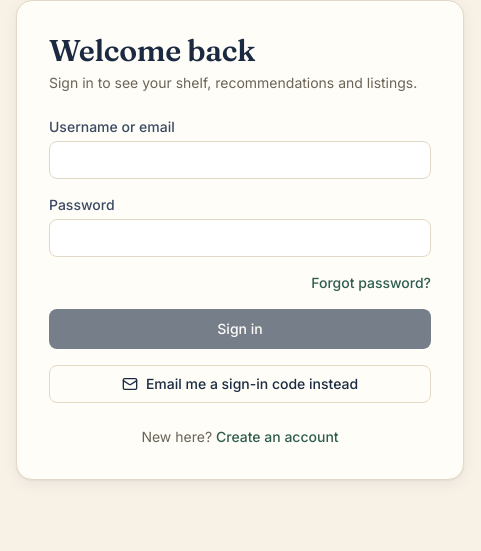
Scenario: login flow › shows the server error on wrong credentials
Type "a@b.com" into the field labelled "Username or email". click: (240, 160)
box: [49,141,431,179]
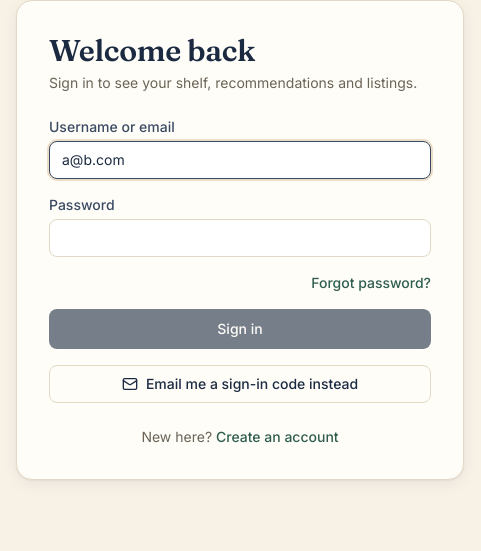
Type "nope-1234" into the password field labelled "Password". click: (240, 238)
box: [49,219,431,257]
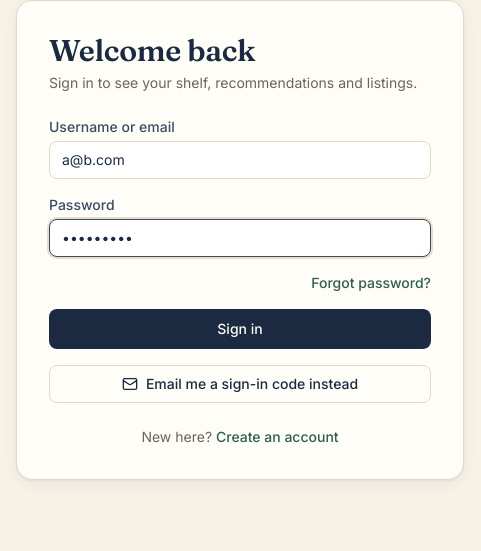
Click the button "Sign in". click: (240, 329)
box: [49,309,431,349]
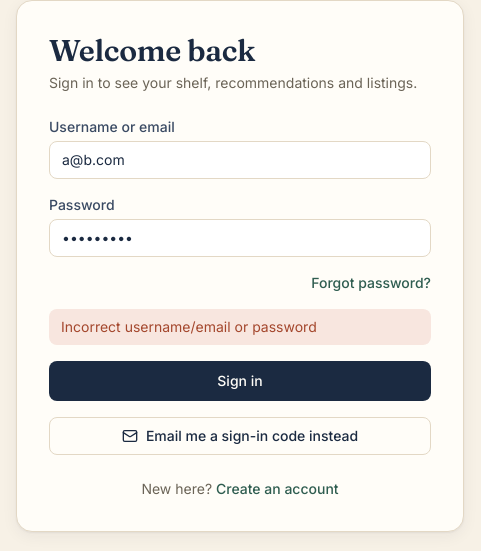
Result: the message reads "Incorrect username/email or password" at [61,318,317,335]
